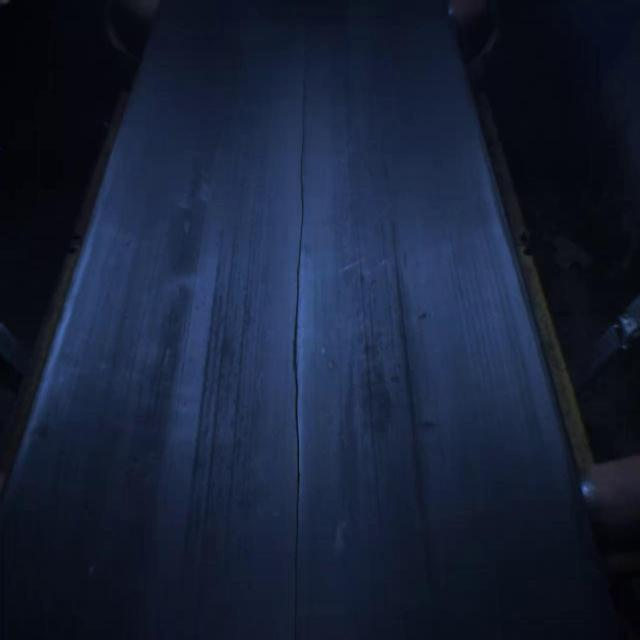Tear: (285, 28, 312, 640)
